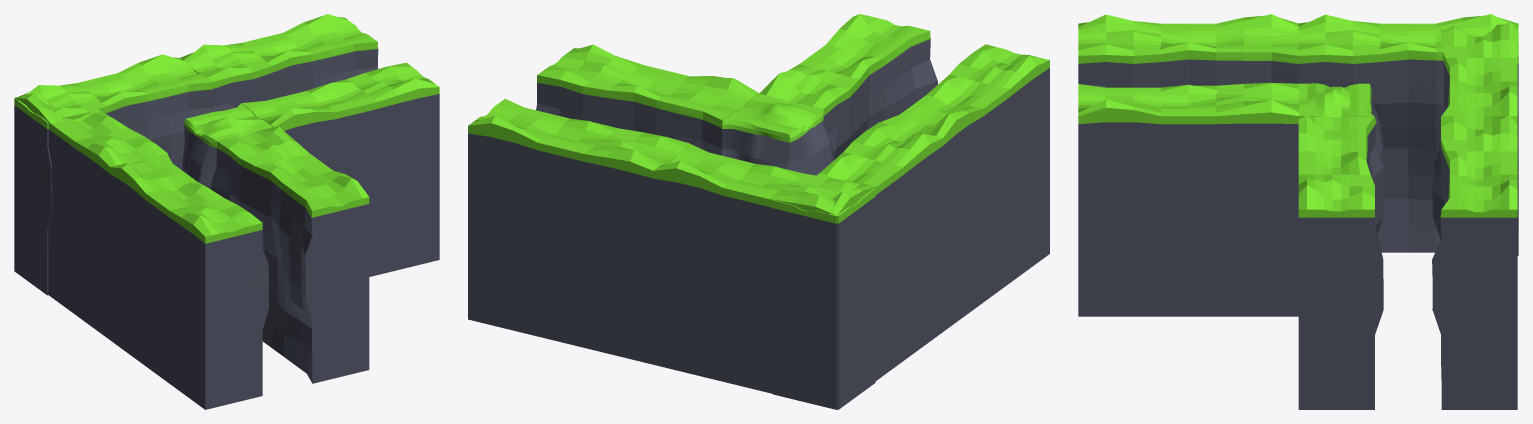
File: BlockSet3.dae
3 views of the same model, side by side, from view 1: azimuth 30°, elevation 25°; view 2: azimuth 150°, elevation 25°; view 3: azimuth 270°, elevation 25° (orthographic). The views are drawn at different scales.
Parts seen in each view (by area): view 1: BlockSet3Fin; view 2: BlockSet3Fin; view 3: BlockSet3Fin.
Boxes of the visible parts, x1,y1,x2,y2 form: BlockSet3Fin: [14, 14, 439, 409]; BlockSet3Fin: [468, 14, 1049, 409]; BlockSet3Fin: [1078, 14, 1518, 409].
Size of the model in its own units: 311 by 166 by 310.
